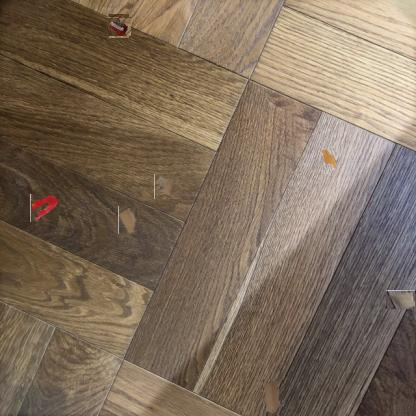dirty: (264, 379, 284, 415), (154, 173, 181, 199), (386, 290, 416, 309), (118, 206, 137, 234), (108, 15, 130, 37)
liquid: (30, 194, 59, 222), (322, 148, 336, 170)
